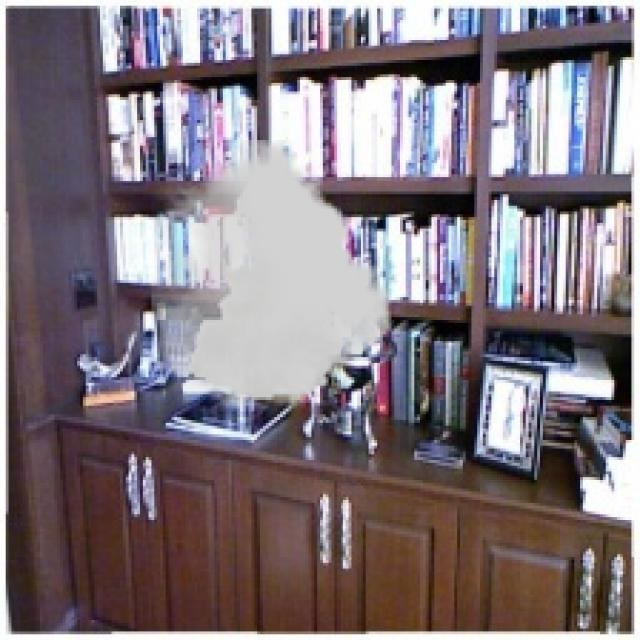Smoke: (152, 140, 392, 412)
